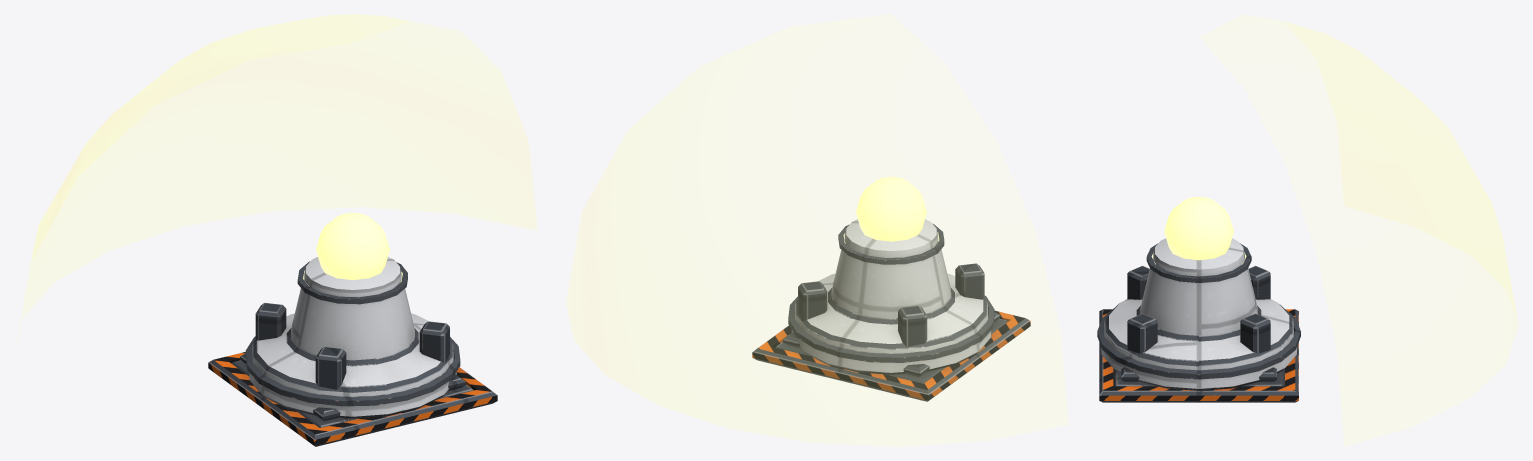
The model's file is generador_escudo_t2.fbx.
3 views of the same model, side by side, from view 1: azimuth 30°, elevation 25°; view 2: azimuth 150°, elevation 25°; view 3: azimuth 270°, elevation 25° (orthographic). The views are drawn at different scales.
Parts seen in each view (by area): view 1: generador_escudo_t2_domo, generador_escudo_t2, generador_escudo_t2_neon; view 2: generador_escudo_t2_domo, generador_escudo_t2, generador_escudo_t2_neon; view 3: generador_escudo_t2_domo, generador_escudo_t2, generador_escudo_t2_neon.
Part boxes in pixels (left/top/right/bottom): generador_escudo_t2_domo: left=19, top=14, right=536, bottom=330; generador_escudo_t2: left=208, top=257, right=497, bottom=446; generador_escudo_t2_neon: left=303, top=213, right=402, bottom=299; generador_escudo_t2_domo: left=566, top=14, right=1068, bottom=446; generador_escudo_t2: left=752, top=219, right=1030, bottom=401; generador_escudo_t2_neon: left=843, top=177, right=939, bottom=260; generador_escudo_t2_domo: left=1200, top=14, right=1517, bottom=445; generador_escudo_t2: left=1097, top=238, right=1300, bottom=402; generador_escudo_t2_neon: left=1151, top=197, right=1249, bottom=264.
Bounding box in the file's own units: 5.7 × 3.65 × 4.22.
